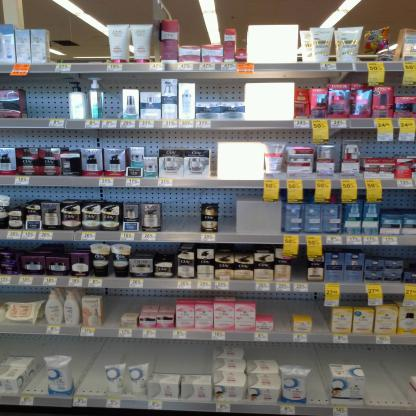Void: (364, 348, 402, 399), (163, 193, 200, 234), (69, 340, 98, 390), (162, 343, 201, 374), (29, 85, 67, 114), (203, 83, 239, 106), (5, 336, 55, 352), (312, 348, 326, 402), (220, 193, 233, 234), (257, 344, 292, 359), (274, 297, 288, 330), (104, 91, 118, 114), (26, 379, 46, 390), (318, 310, 327, 330)
